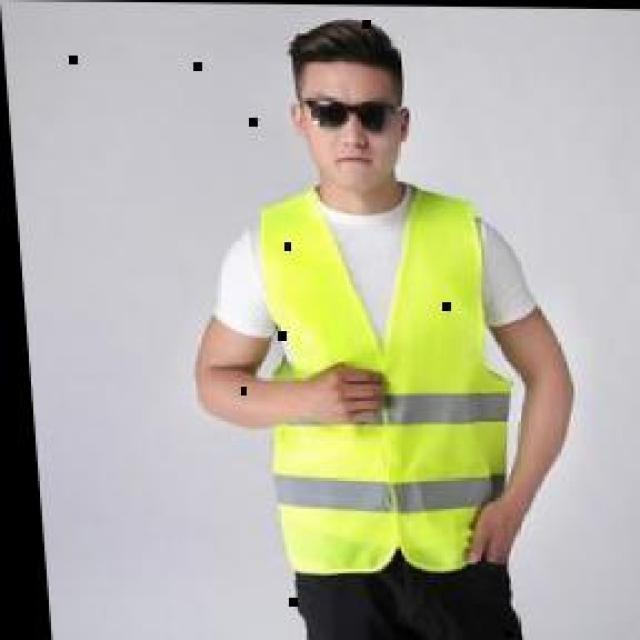safety_helmet: (199, 181, 576, 580)
